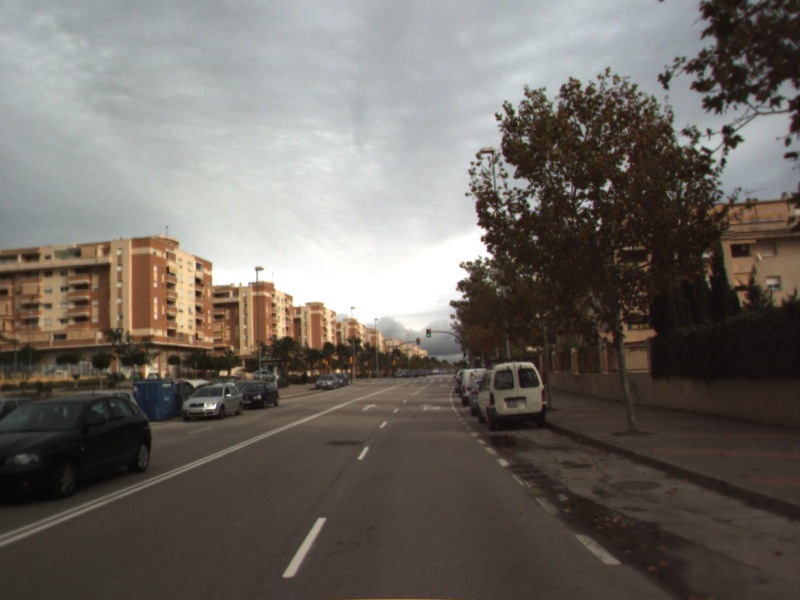STRAIGHT: (359, 401, 380, 414)
STRAIGHT_RIGHT: (416, 401, 445, 414)
